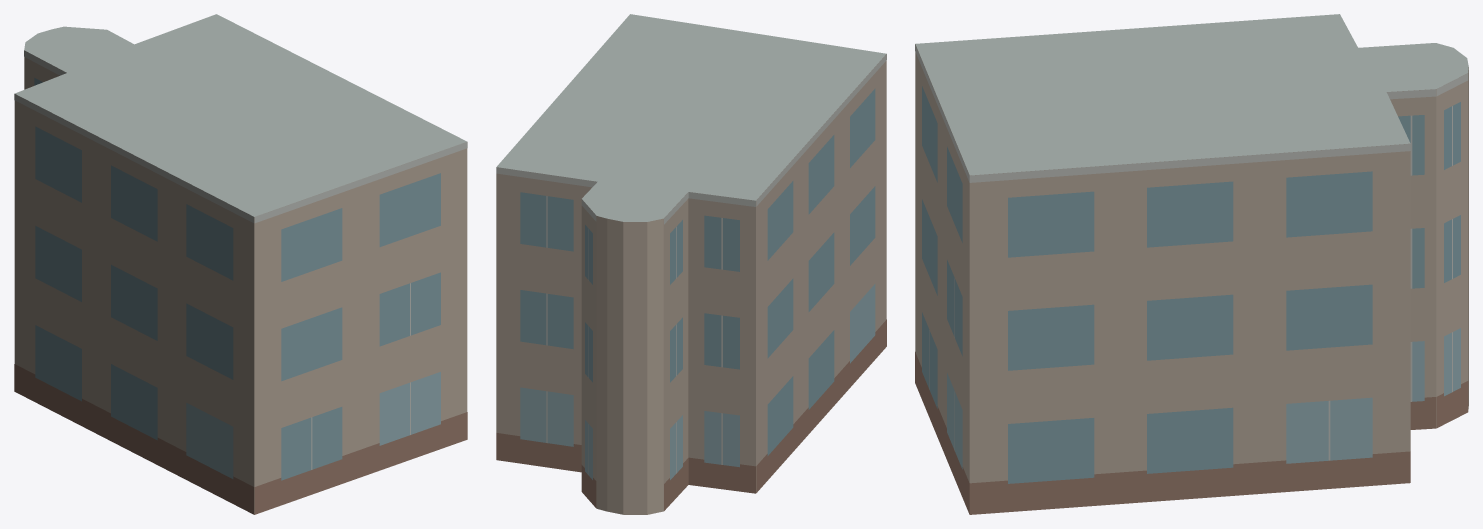
File: survey-upis-32617181.glb
The picture shows the model from 3 angles, left to right: view 1: azimuth 30°, elevation 25°; view 2: azimuth 150°, elevation 25°; view 3: azimuth 270°, elevation 25°; orthographic projection. The views are drawn at different scales.
Parts seen in each view (by area): view 1: survey-upis-32617181.tmp; view 2: survey-upis-32617181.tmp; view 3: survey-upis-32617181.tmp.
Boxes of the visible parts, bbox=[...] form: survey-upis-32617181.tmp: bbox=[14, 14, 467, 514]; survey-upis-32617181.tmp: bbox=[496, 14, 886, 514]; survey-upis-32617181.tmp: bbox=[915, 14, 1468, 514].
Size of the model in its own units: 11.34 by 11.1 by 16.41.
